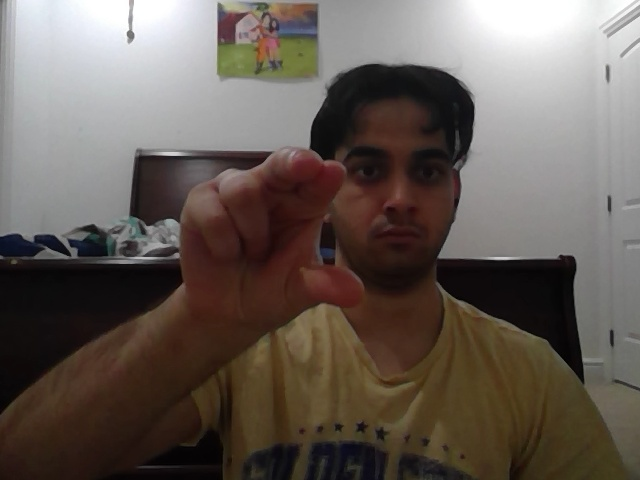No: (178, 146, 365, 339)
